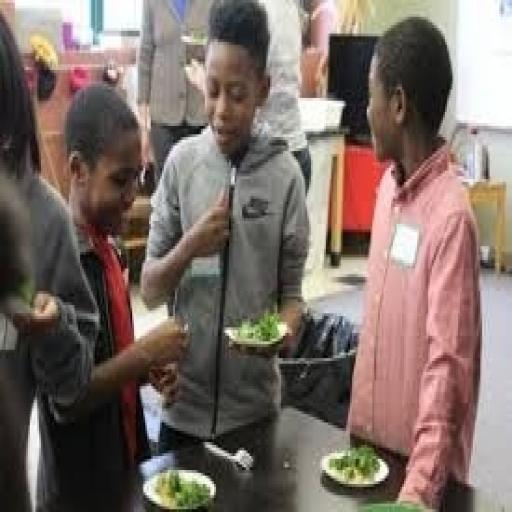eating: (2, 3, 486, 506), (140, 0, 311, 459)
